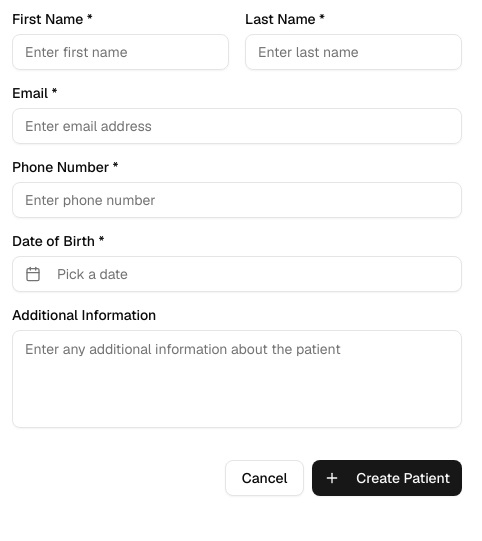
it: CreatePatientForm › Email Validation › validates email format
Type "invalid-email" into the field labelled "Email *" at (237, 126), box 12,108 -> 462,144
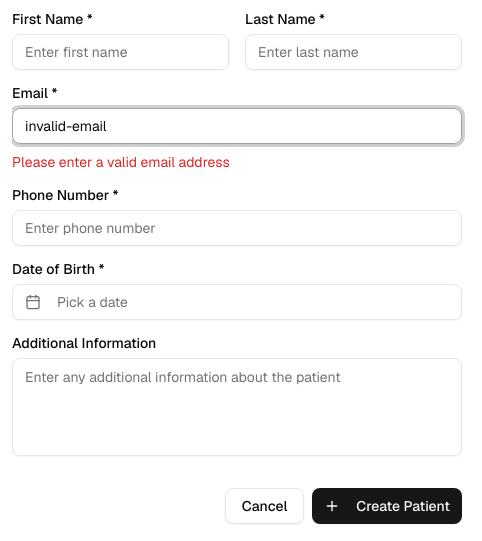
Expected: the text "Please enter a valid email address" is shown, 12,153 -> 230,171
